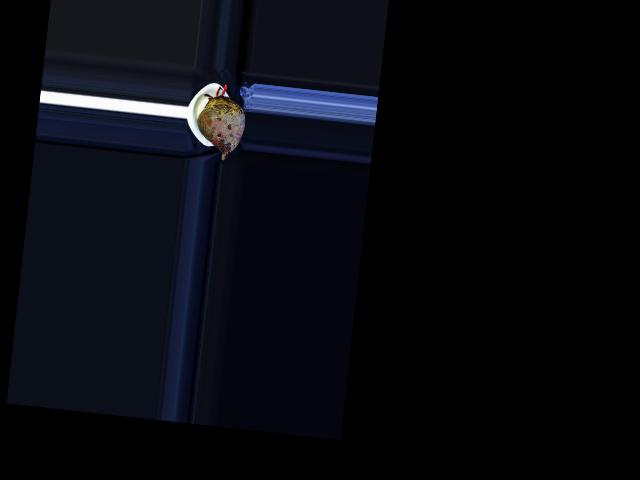beet: (193, 81, 247, 161)
